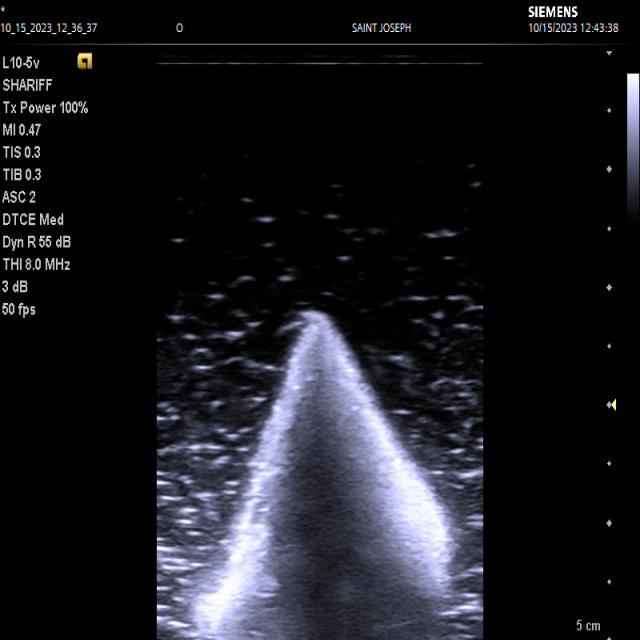tissue: (190, 311, 458, 640)
